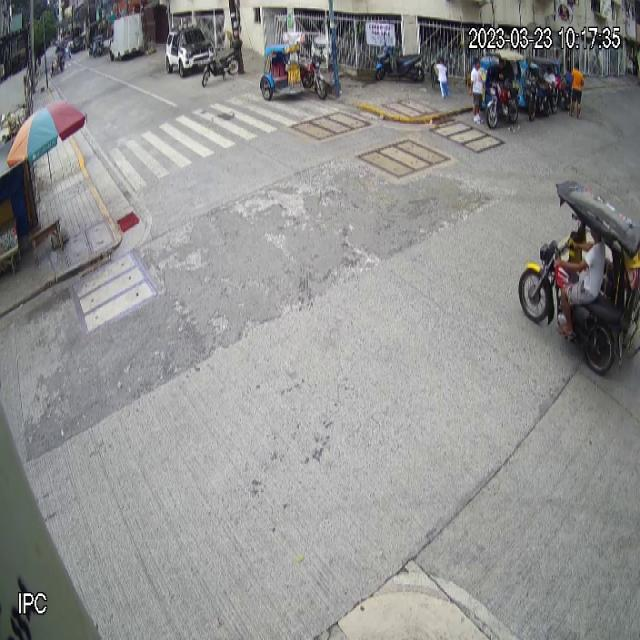Tricycle: (517, 182, 640, 376), (259, 30, 329, 103)
